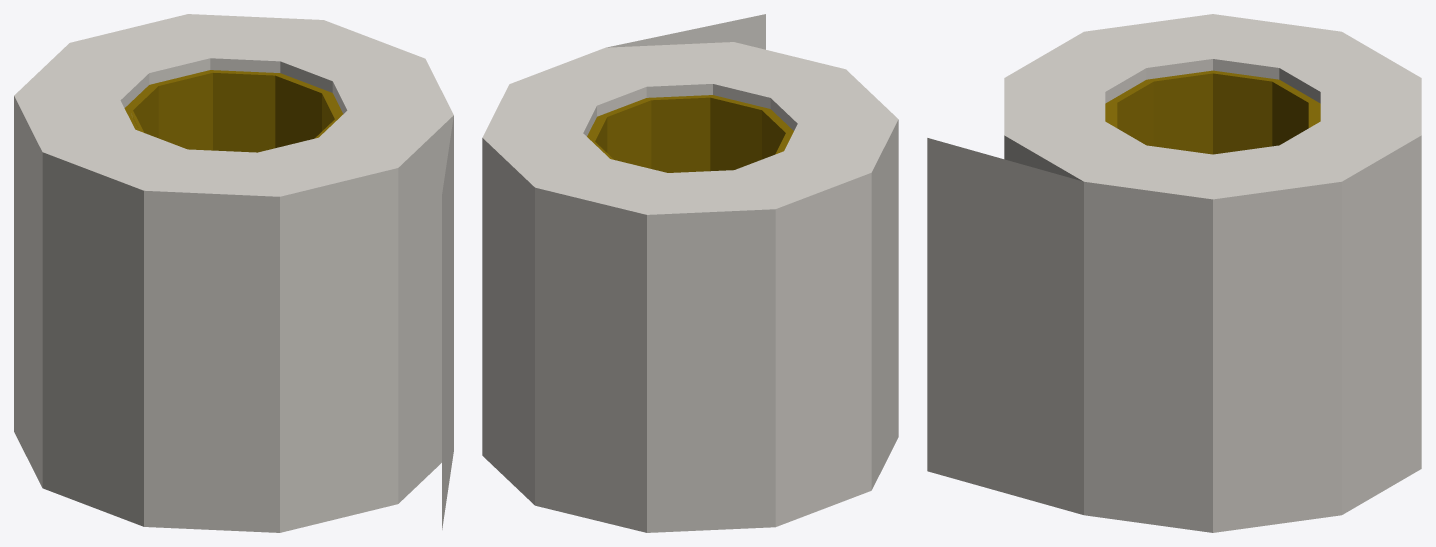
Rendered from SM_Paper.fbx.
3 renders of one model, left to right at view 1: azimuth 30°, elevation 25°; view 2: azimuth 150°, elevation 25°; view 3: azimuth 270°, elevation 25°, orthographic. The views are drawn at different scales.
Parts seen in each view (by area): view 1: pCylinder1; view 2: pCylinder1; view 3: pCylinder1.
Boxes of the visible parts, box(x1,y1,x2,y2) form: pCylinder1: box(14, 14, 453, 532); pCylinder1: box(482, 14, 898, 532); pCylinder1: box(927, 14, 1421, 532).
Size of the model in its own units: 3.99 by 3.35 by 4.5.
